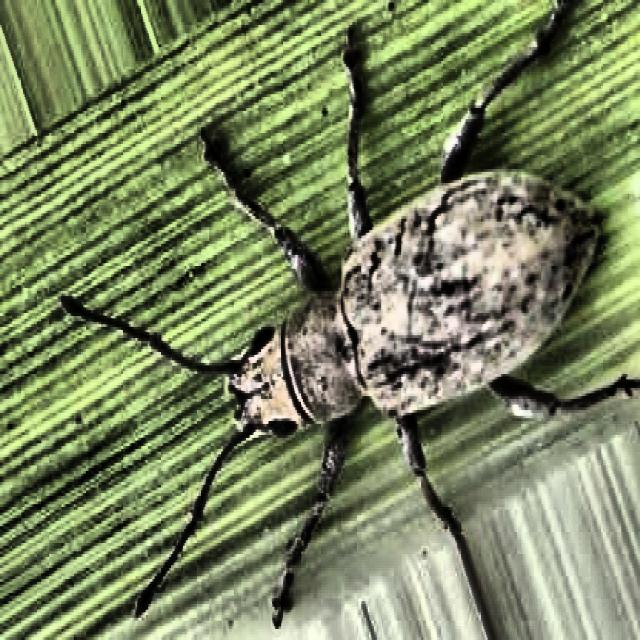Stink bug: (100, 34, 612, 525)
